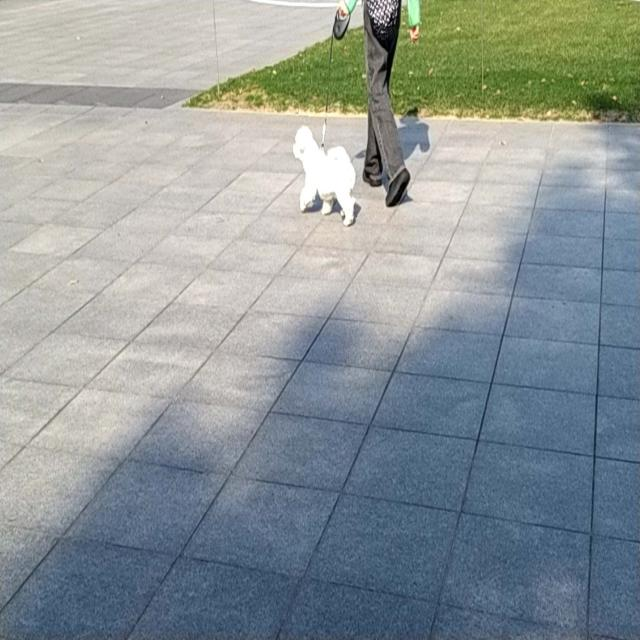Leashed_Dog: (292, 0, 402, 227)
